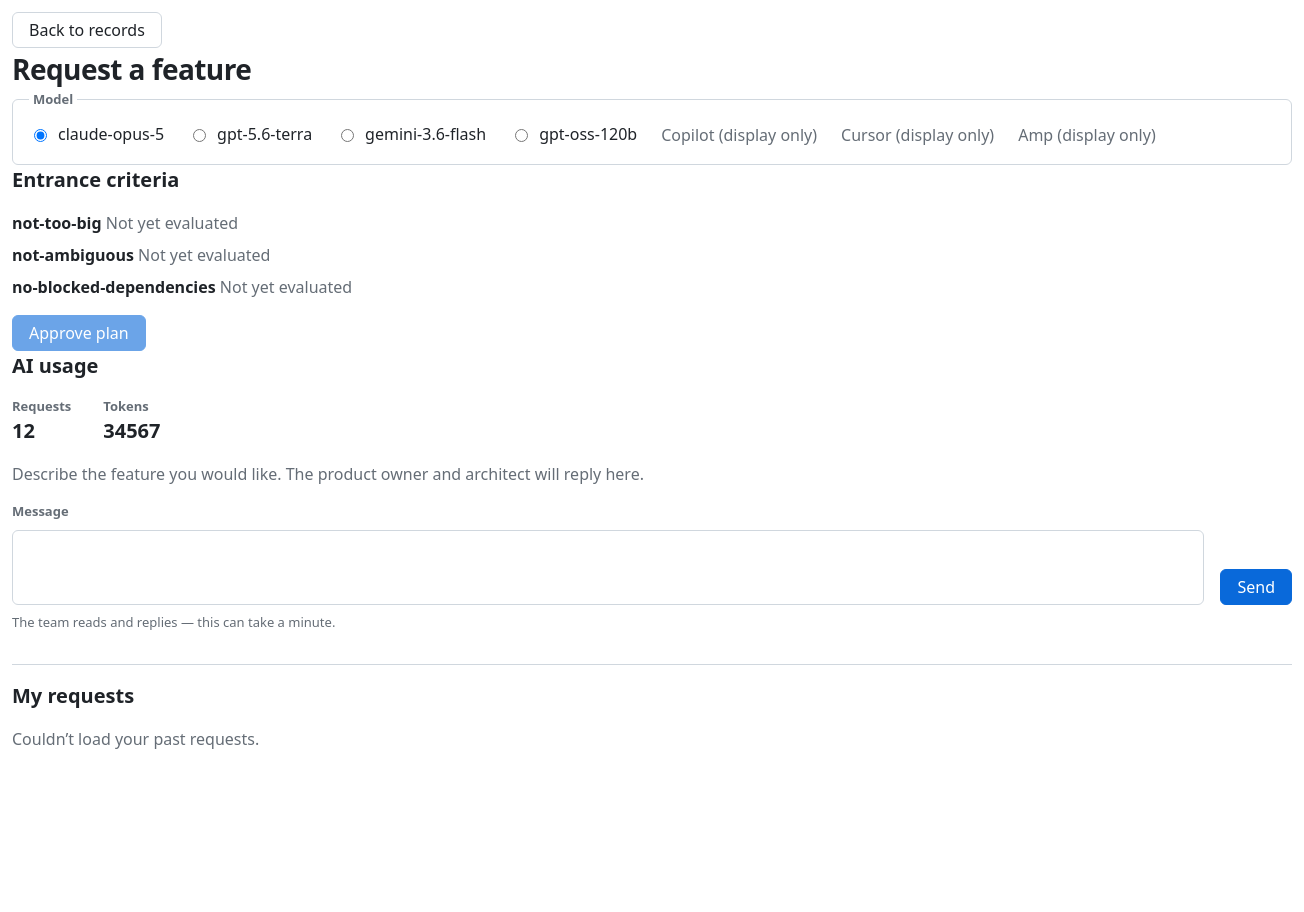
Test: DAN-54 tester · criterion 3: quota meter › refreshes after each exchange: a changed ledger renders its new numbers
Expected: the text "Requests" is shown, [12,396,71,416]
Expected: the element "AI usage" shows "34567", [103,417,160,444]
Type "Export the table as CSV" into the text box labelled "Message" at (608,567), box [12,530,1204,604]
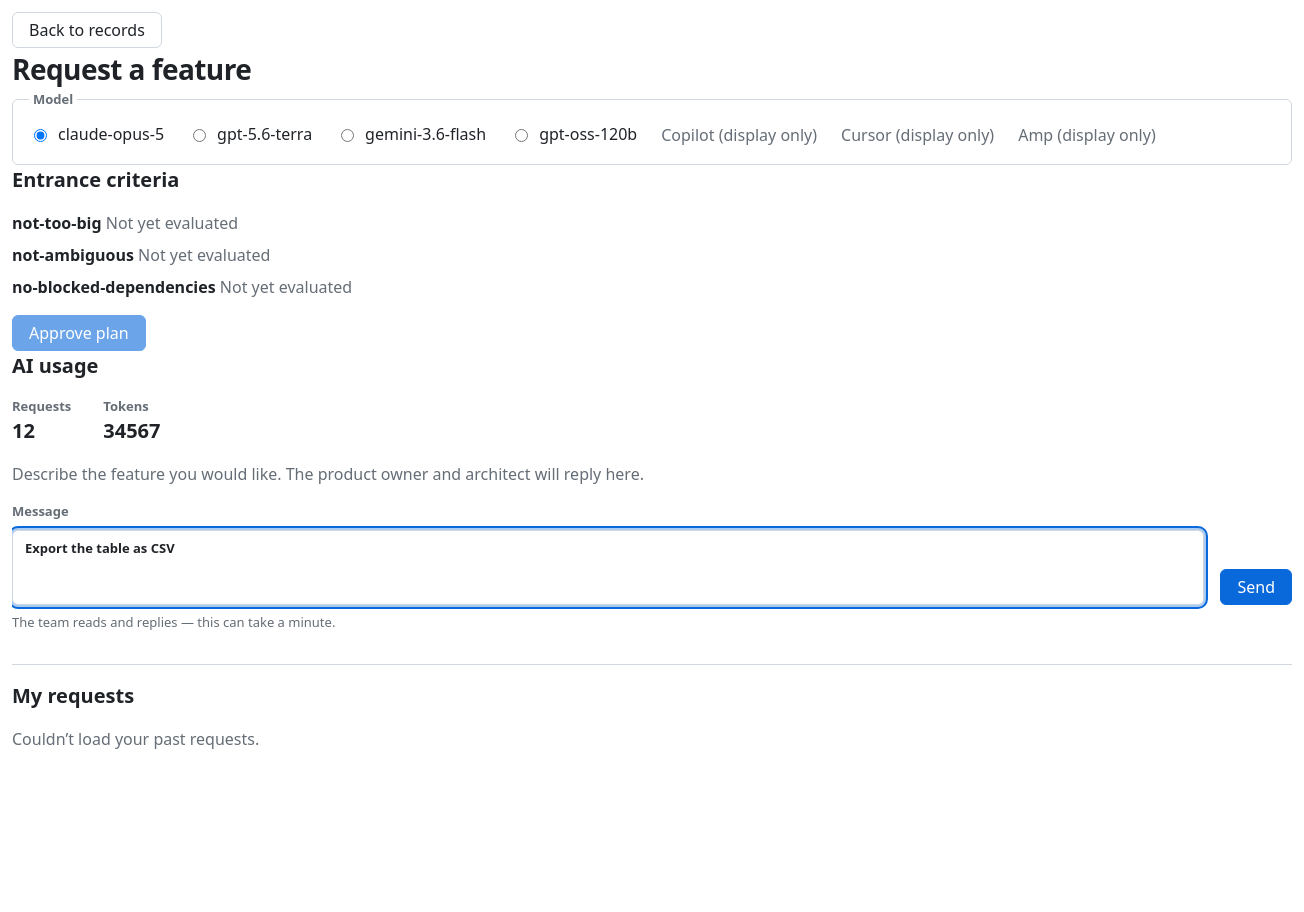
Click the button "Send" at (1256,586), box [1220,568,1292,604]
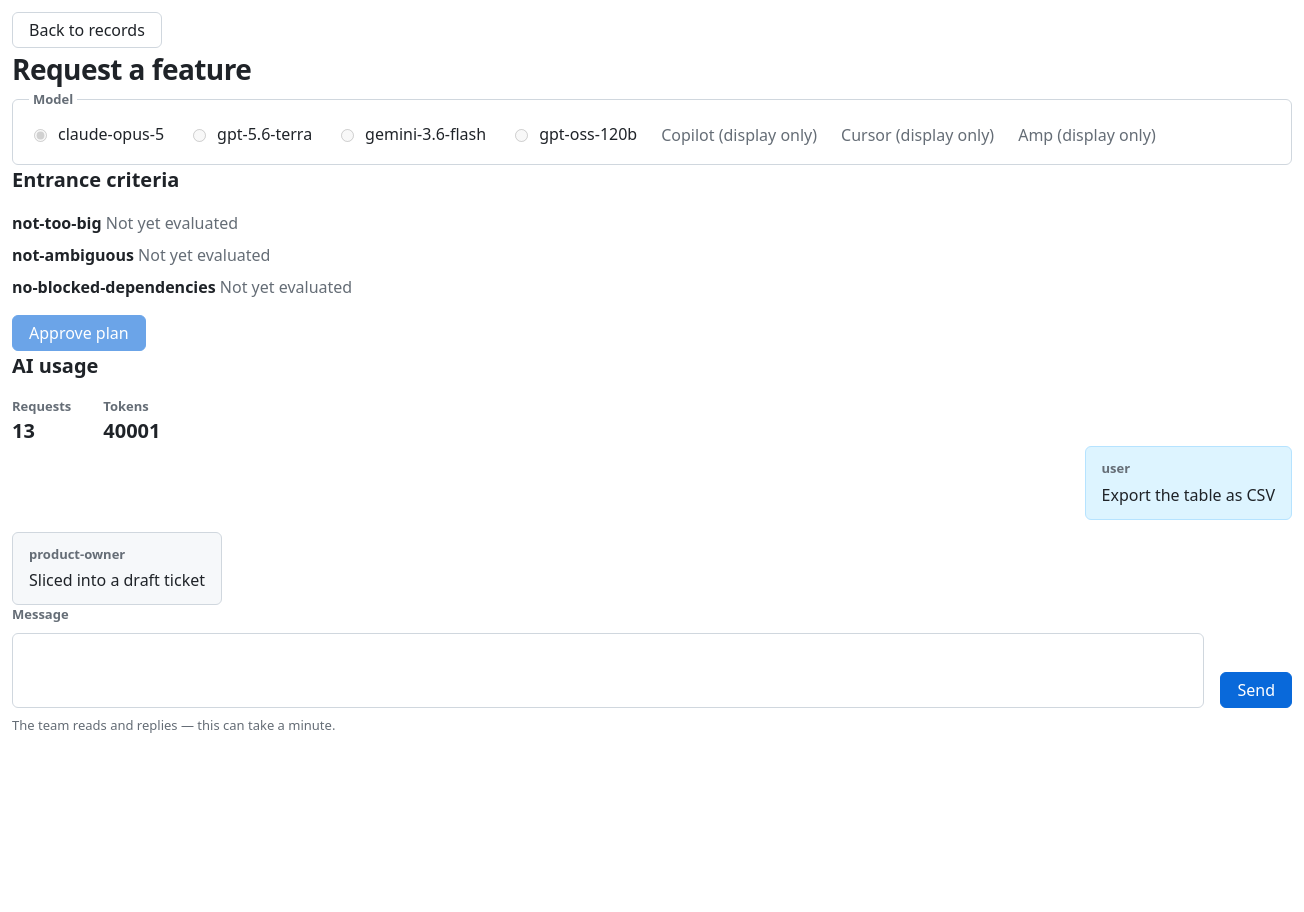
Now the element "AI usage" shows "40001", box [103,417,160,444]
Now the element "AI usage" shows "13", box [12,417,35,444]
Now the element "AI usage" no longer shows "34567", box [12,352,160,444]
